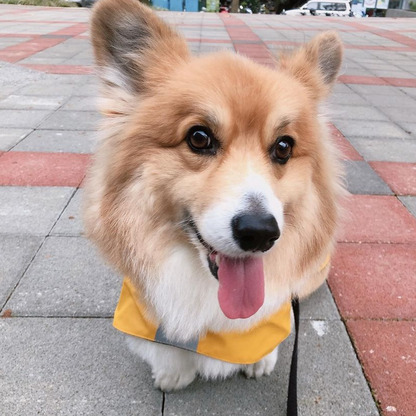Corgi: (76, 7, 354, 396)
